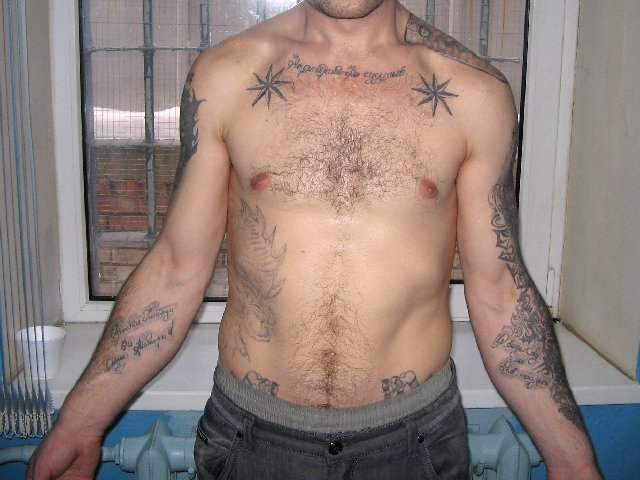tatu4_zvezda: (243, 65, 291, 113), (411, 74, 460, 119)
